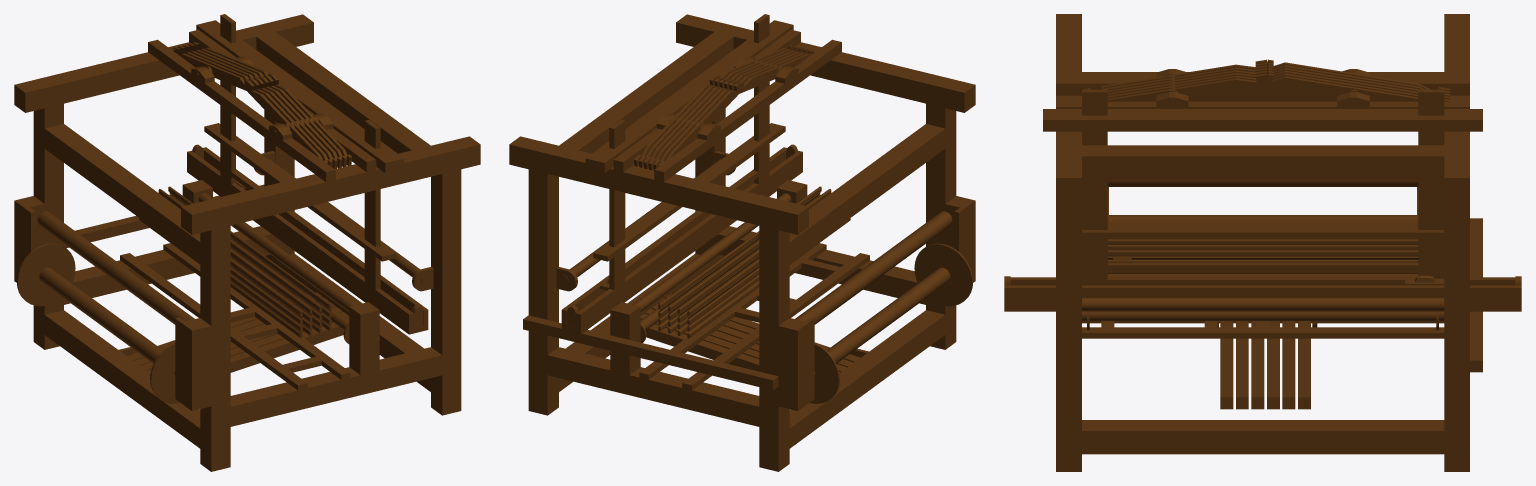
The model's file is TkatskiyStanok.glb.
3 views of the same model, side by side, from view 1: azimuth 30°, elevation 25°; view 2: azimuth 150°, elevation 25°; view 3: azimuth 270°, elevation 25° (orthographic). The views are drawn at different scales.
Visible parts, largest first — view 1: TkatskiyStanok; view 2: TkatskiyStanok; view 3: TkatskiyStanok.
Part boxes in pixels (x1,y1,x2,y2): TkatskiyStanok: (14,14,480,471); TkatskiyStanok: (509,14,975,471); TkatskiyStanok: (1004,14,1521,471).
Bounding box in the file's own units: 32 × 29.16 × 40.01.
